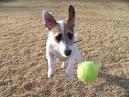tennis ball: (74, 59, 102, 83)
